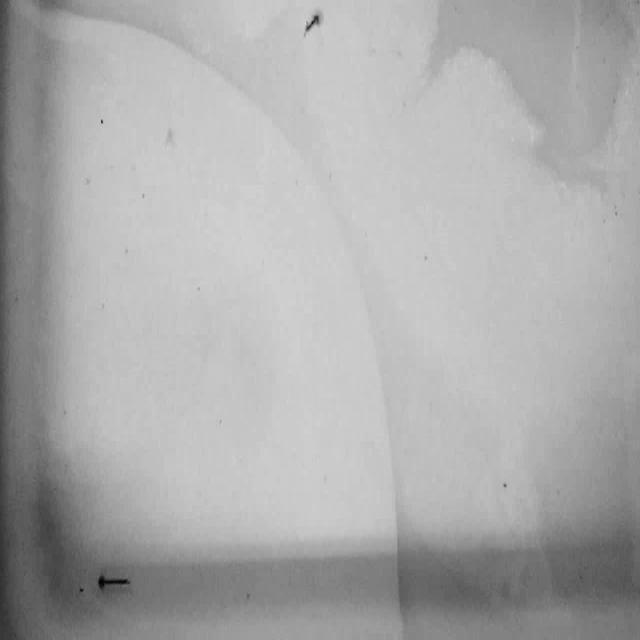larvas: (302, 12, 320, 38), (98, 575, 128, 589)
